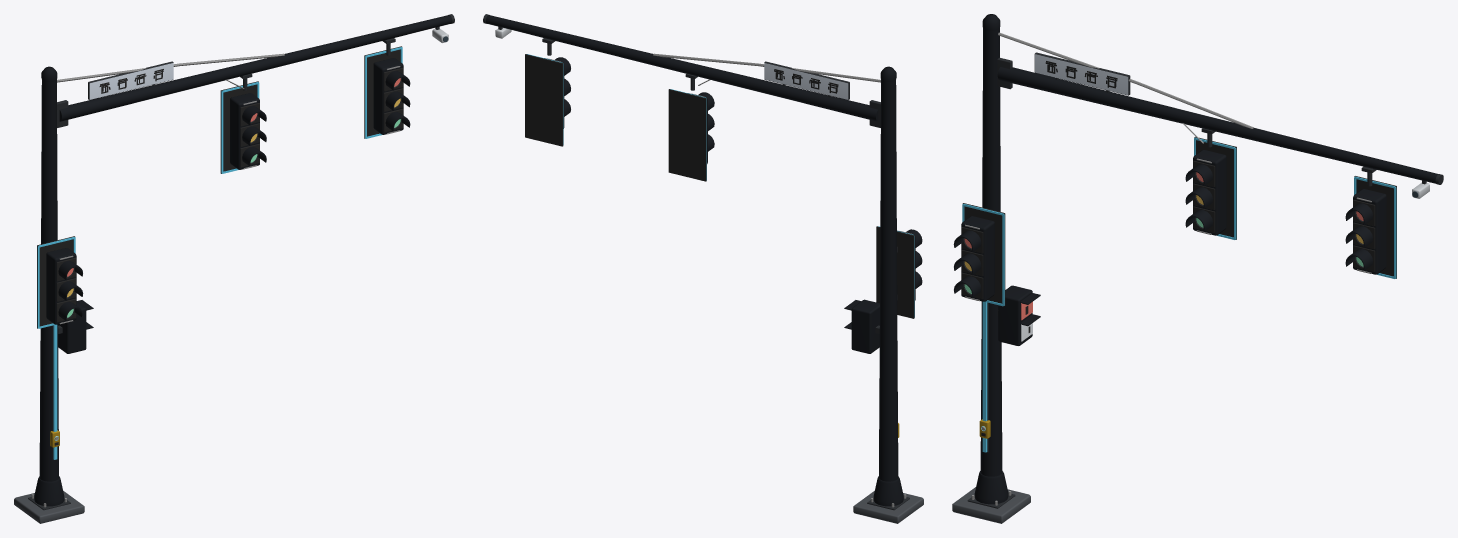
File: Traffic_Light_Cyber.fbx
The picture shows the model from 3 angles, left to right: view 1: azimuth 30°, elevation 25°; view 2: azimuth 150°, elevation 25°; view 3: azimuth 330°, elevation 25°; orthographic projection. The views are drawn at different scales.
Visible parts, largest first — view 1: Traffic_Light_Cyber_LOD0; view 2: Traffic_Light_Cyber_LOD0; view 3: Traffic_Light_Cyber_LOD0.
Part boxes in pixels (x1,y1,x2,y2): Traffic_Light_Cyber_LOD0: (14, 14, 454, 523); Traffic_Light_Cyber_LOD0: (483, 14, 923, 523); Traffic_Light_Cyber_LOD0: (952, 14, 1443, 523).
Size of what is drawn, in the model's own units: 6.53 by 6.47 by 1.02.
